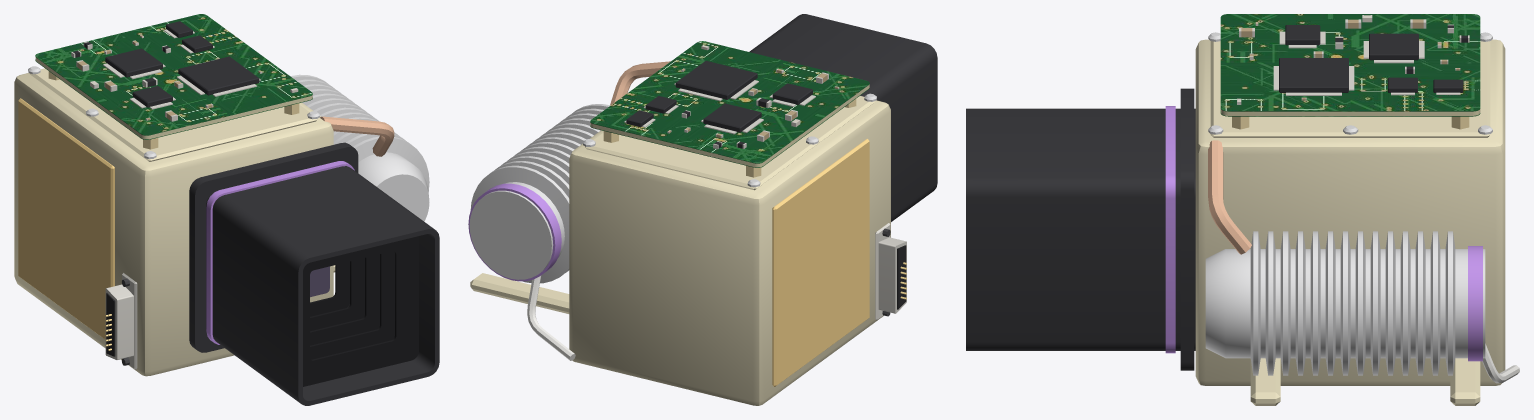
The model's file is ir_spectrometer.glb.
The picture shows the model from 3 angles, left to right: view 1: azimuth 30°, elevation 25°; view 2: azimuth 150°, elevation 25°; view 3: azimuth 270°, elevation 25°; orthographic projection. The views are drawn at different scales.
Visible parts, largest first — view 1: ir_spectrometer, electronics; view 2: ir_spectrometer, electronics; view 3: ir_spectrometer, electronics.
Boxes of the visible parts, x1=… form: ir_spectrometer: x1=14, y1=66, x2=439, y2=405; electronics: x1=35, y1=14, x2=312, y2=139; ir_spectrometer: x1=468, y1=14, x2=937, y2=405; electronics: x1=590, y1=41, x2=869, y2=167; ir_spectrometer: x1=966, y1=32, x2=1519, y2=405; electronics: x1=1220, y1=14, x2=1480, y2=116.
Size of the model in its own units: 0.0899 by 0.0617 by 0.1109.
Materials: 21 (1 with a texture image).
